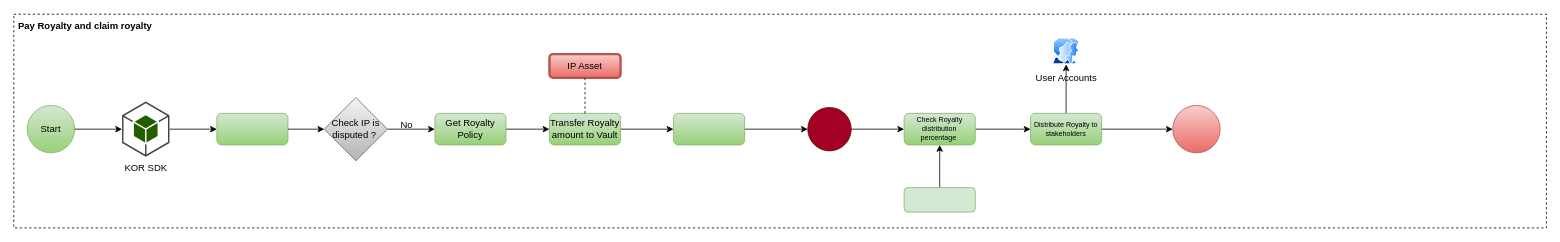
This 1560x242 diagram has some shape labels left out. The shapes that lost their labels are listed below. From the top down, each one's box as (x1, y1, x2, y2) in pixels, then its label:
(216, 113, 288, 145): Pay Royalty
(673, 113, 745, 145): Royalty vault
(807, 107, 851, 151): Claim Royalty
(1172, 105, 1220, 153): END
(903, 187, 975, 212): Royalty Token
